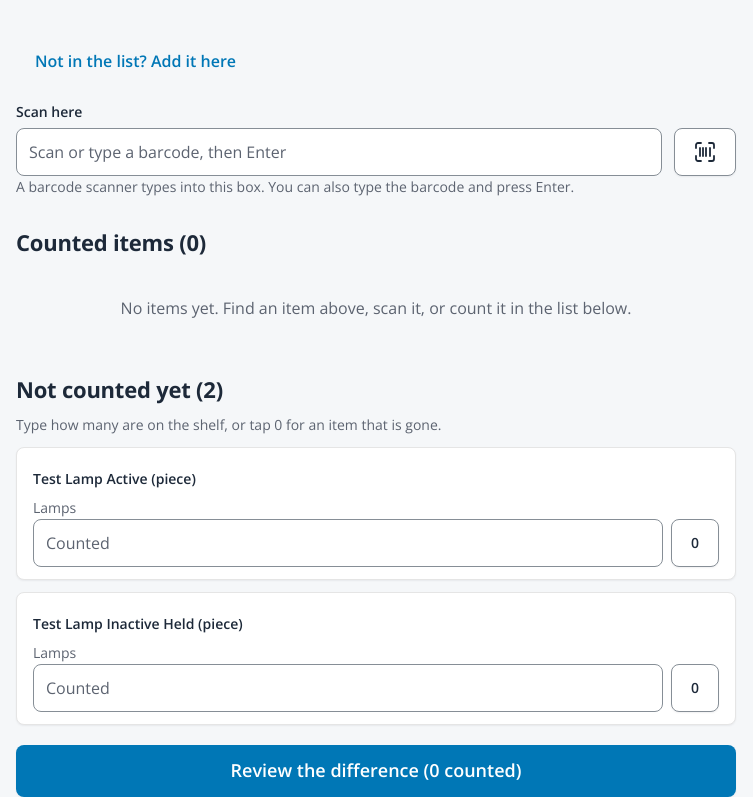
Test case: counting the sheet › asks in the words of Review the difference, and never says Finish
The width and height of the screenshot is (753, 797).
(page scrolled)
Expected: the text "No items yet. Find an item above, scan it, or count it in the list below." is shown, [121, 297, 631, 319]
Step 1. Click the button named "Count 0 of Test Lamp Inactive Held" → (695, 688), box [671, 664, 719, 712]
(page scrolled)
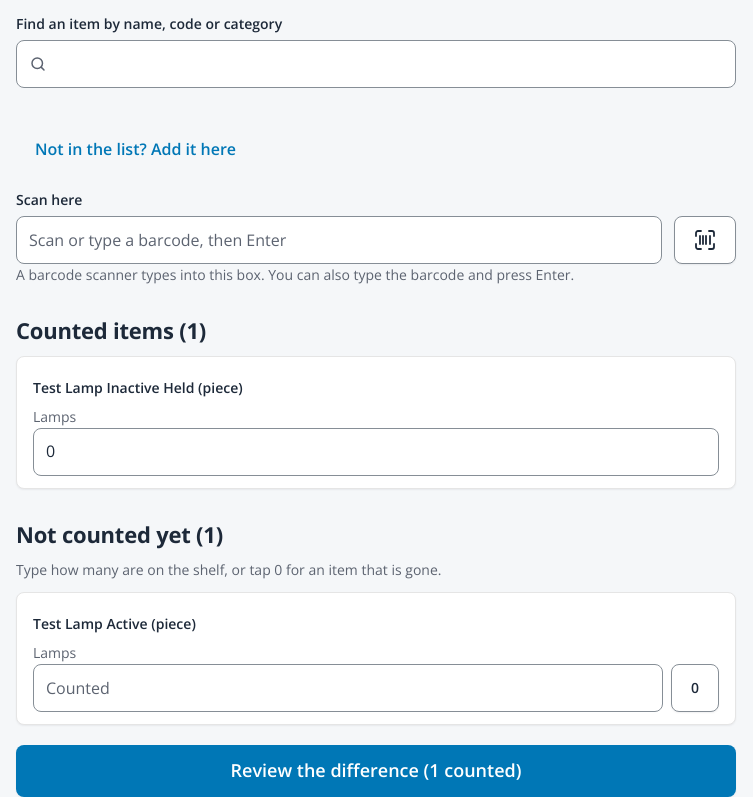
Step 2. Click the button "Review the difference (1 counted)" → (376, 771), box [16, 745, 736, 796]
(page scrolled)
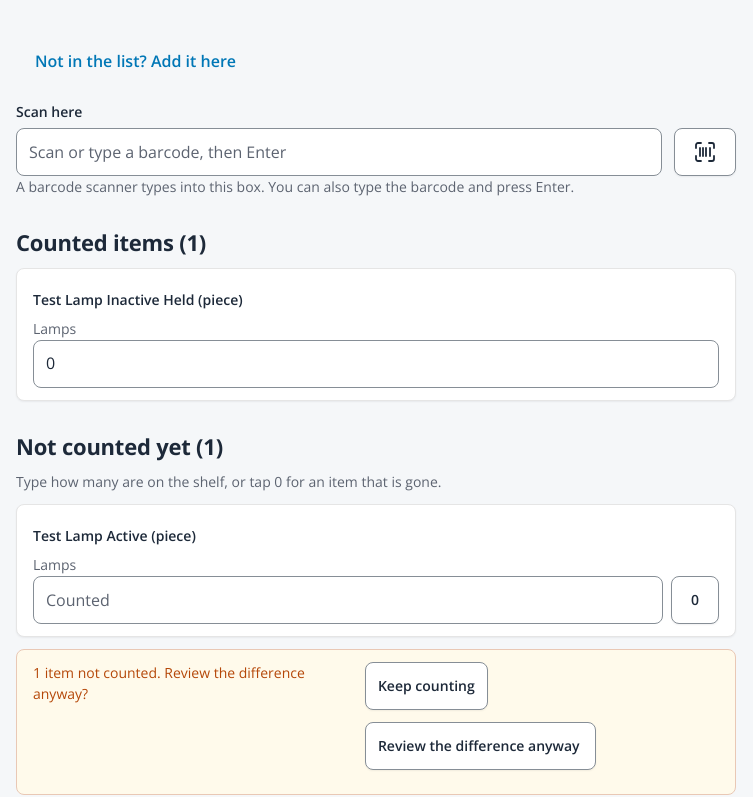
Result: the text "1 item not counted. Review the difference anyway?" is shown at [33, 663, 305, 703]
Result: the button "Review the difference anyway" is shown at [365, 722, 596, 770]
Result: the button "Keep counting" is shown at [365, 662, 488, 710]
